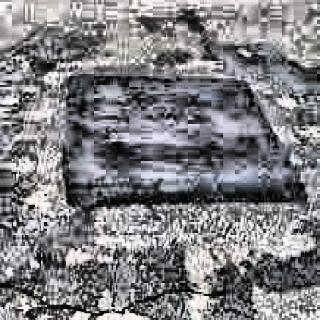crack: (5, 259, 239, 317)
